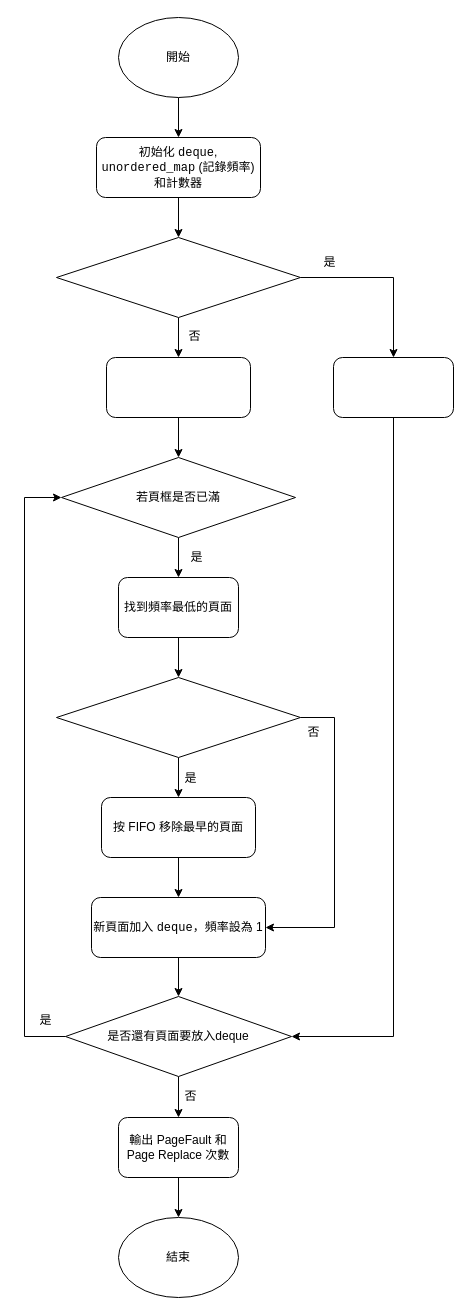
This 471x1315 diagram has some shape labels left out. The box of each missing label's shape, as (x1, y1, x2, y2) in pixels:
增加 Page Fault 計數: (106, 356, 250, 418)
增加該頁面的頻率: (332, 356, 454, 418)
是否有多個頁面頻率相同: (56, 676, 300, 758)
頁面是否存在於 deque 中？: (56, 236, 300, 318)
